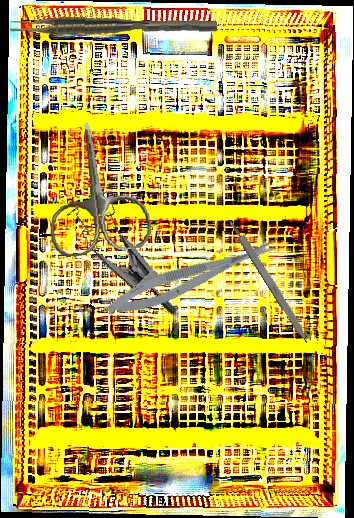Iris Scissors: (37, 116, 154, 259)
Micro Scissor: (102, 231, 286, 323)
Scalpel Handle: (227, 217, 313, 345)
Speculum: (51, 179, 211, 318)
Tissue Forceps: (9, 16, 218, 38)
